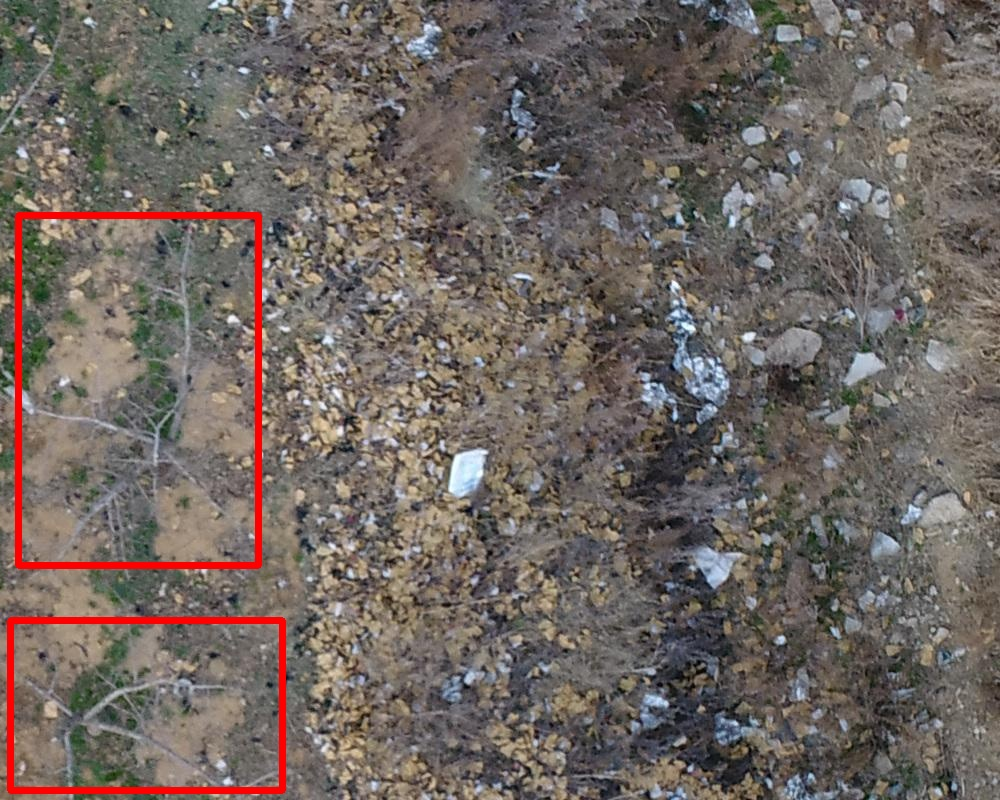apple: (18, 215, 258, 565), (10, 620, 282, 790)
